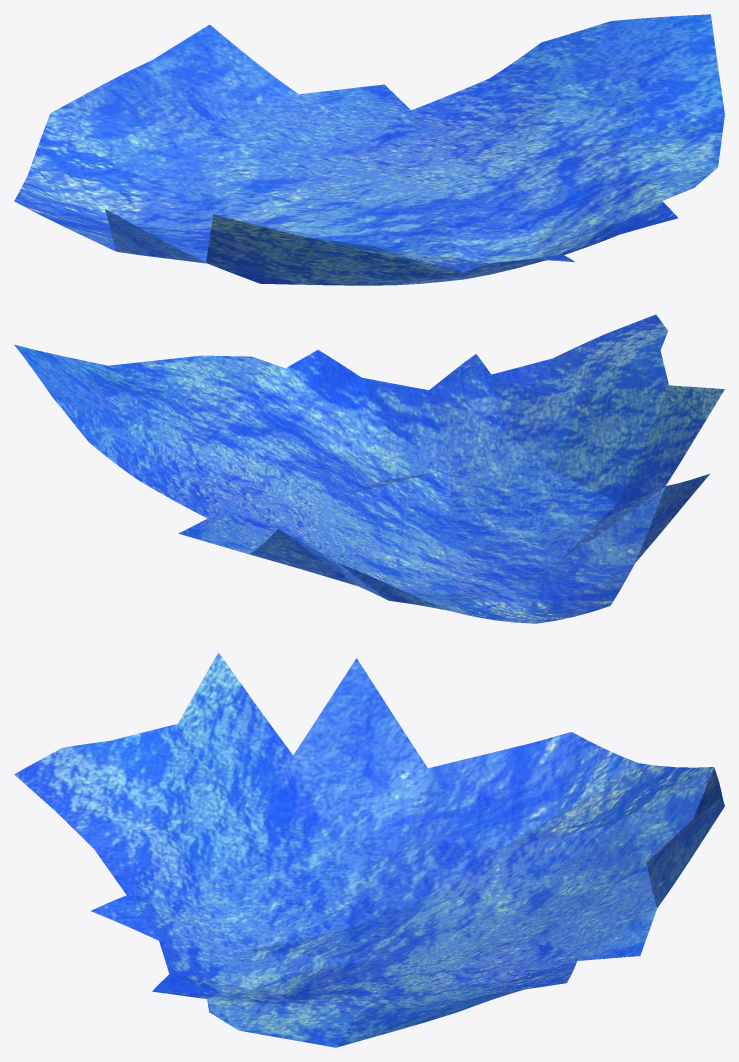
Rendered from lake.obj.
The picture shows the model from 3 angles, top to bottom: view 1: azimuth 30°, elevation 25°; view 2: azimuth 150°, elevation 25°; view 3: azimuth 270°, elevation 25°; orthographic projection. The views are drawn at different scales.
Visible parts, largest first — view 1: Lake_Plane; view 2: Lake_Plane; view 3: Lake_Plane.
Part boxes in pixels (bbox=[...]): Lake_Plane: bbox=[14, 14, 724, 285]; Lake_Plane: bbox=[14, 314, 724, 623]; Lake_Plane: bbox=[14, 652, 724, 1047].
Size of the model in its own units: 6.71 by 1.38 by 5.63.
